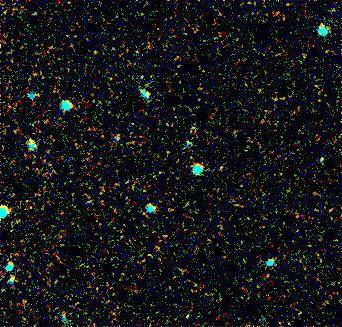star: (132, 80, 162, 110)
